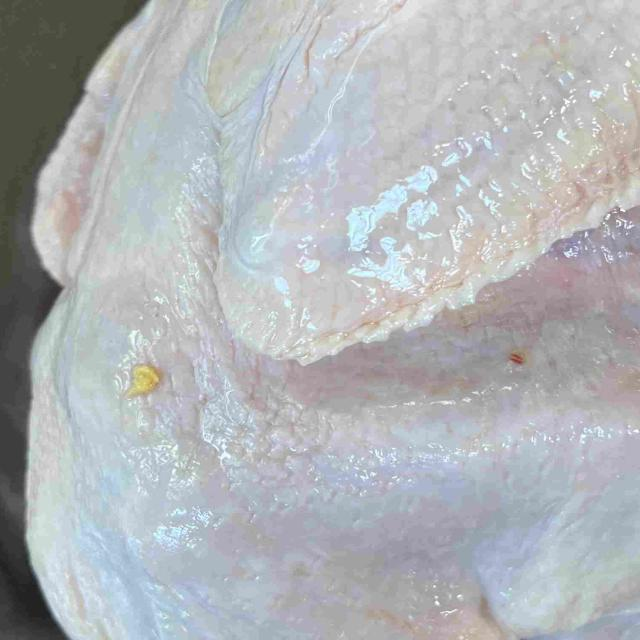back: (25, 0, 492, 640)
leg: (470, 273, 640, 640)
wing: (211, 0, 640, 366)
